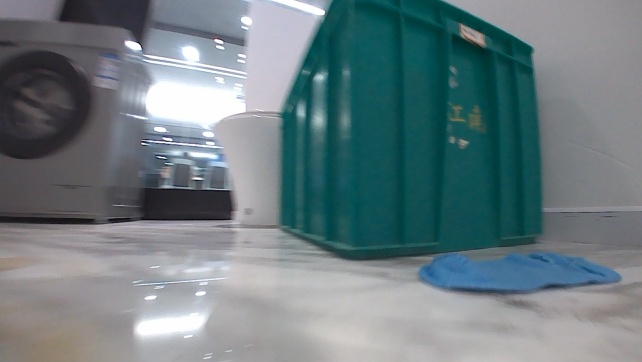socks: (415, 245, 623, 294)
toilet: (209, 108, 285, 227)
washing_machine: (1, 14, 158, 225)
